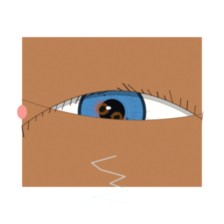foreign_body_visible: (101, 104, 133, 130)
